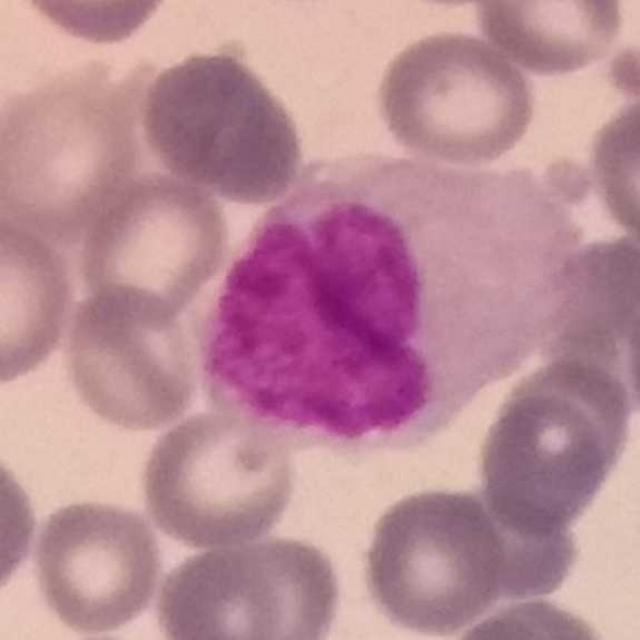Monocyte: (199, 152, 582, 448)
RBC: (134, 41, 312, 206), (471, 360, 632, 538), (136, 401, 305, 551), (72, 168, 234, 324), (0, 69, 145, 237), (371, 26, 541, 169), (356, 482, 509, 639), (56, 281, 204, 435), (149, 528, 348, 640), (27, 493, 166, 637), (537, 231, 640, 424), (448, 483, 583, 610), (0, 209, 80, 391), (471, 0, 630, 78), (584, 90, 640, 261), (7, 0, 181, 49), (443, 595, 619, 640), (0, 440, 42, 606)
